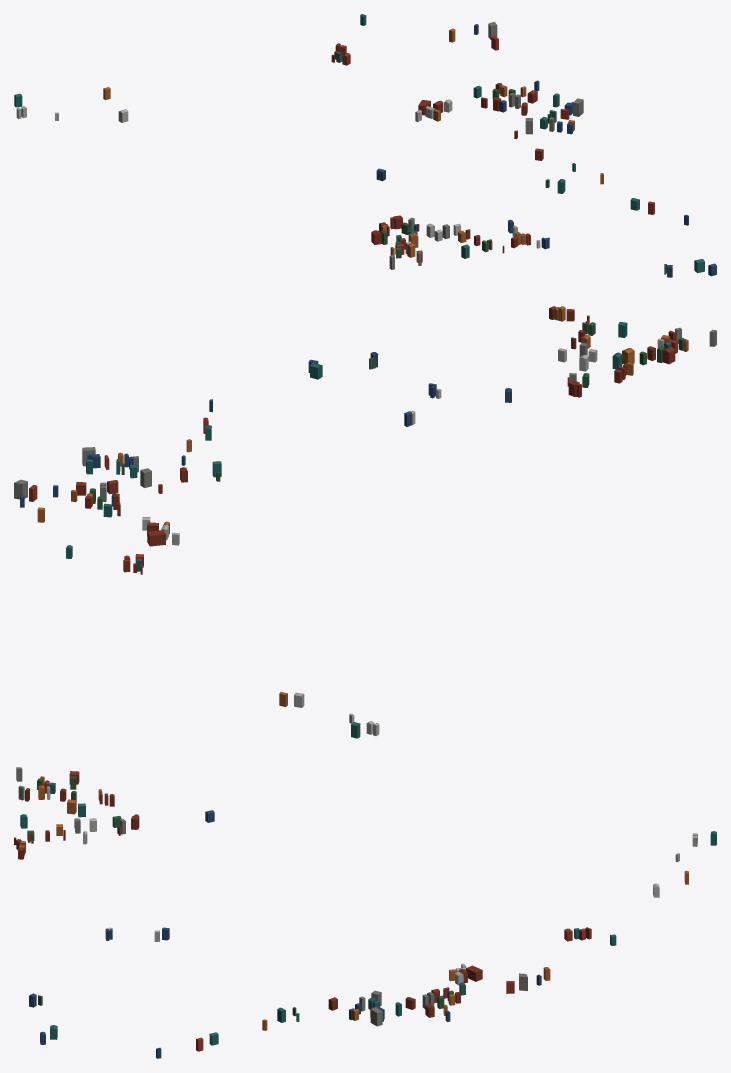
File: near-15-27372-14875.cc86d2dc.glb
3 views of the same model, one above another, from view 1: azimuth 30°, elevation 25°; view 2: azimuth 150°, elevation 25°; view 3: azimuth 270°, elevation 25° (orthographic). The views are drawn at different scales.
Size of the model in its own units: 786 by 201 by 1144.
